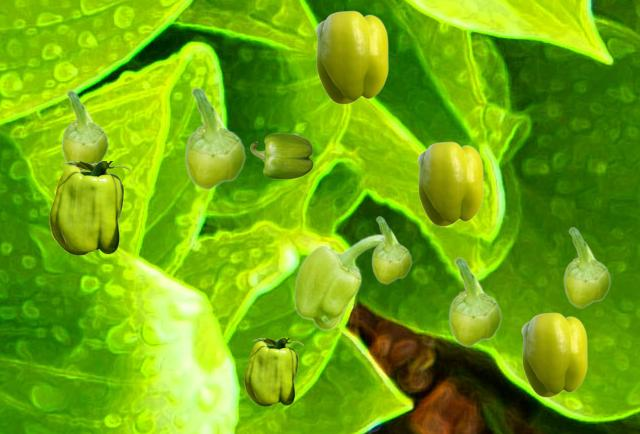bell_pepper: (293, 233, 385, 330), (49, 161, 130, 254), (315, 10, 387, 103), (184, 87, 245, 189), (521, 312, 586, 396), (417, 141, 482, 225), (448, 257, 501, 346), (244, 338, 302, 405), (563, 227, 610, 307), (61, 90, 108, 170), (250, 133, 312, 178), (371, 216, 411, 283)
